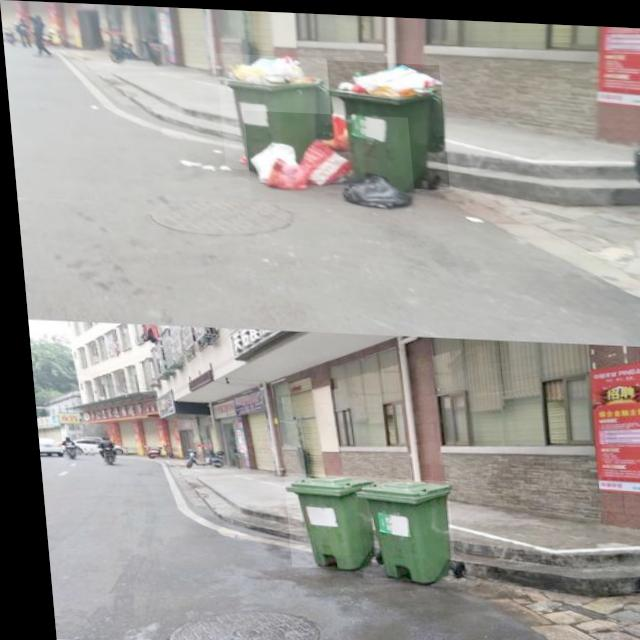garbage: (242, 108, 413, 205)
garbage_bin: (346, 474, 447, 579), (275, 471, 369, 568)
overflow: (326, 57, 447, 186), (216, 52, 334, 170)
